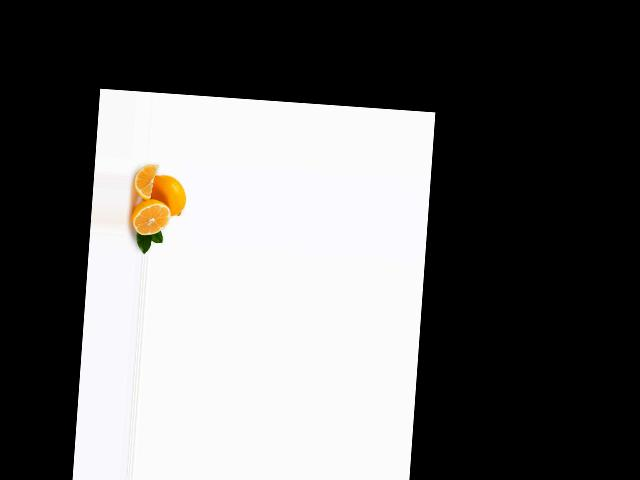lemon: (143, 172, 188, 219)
